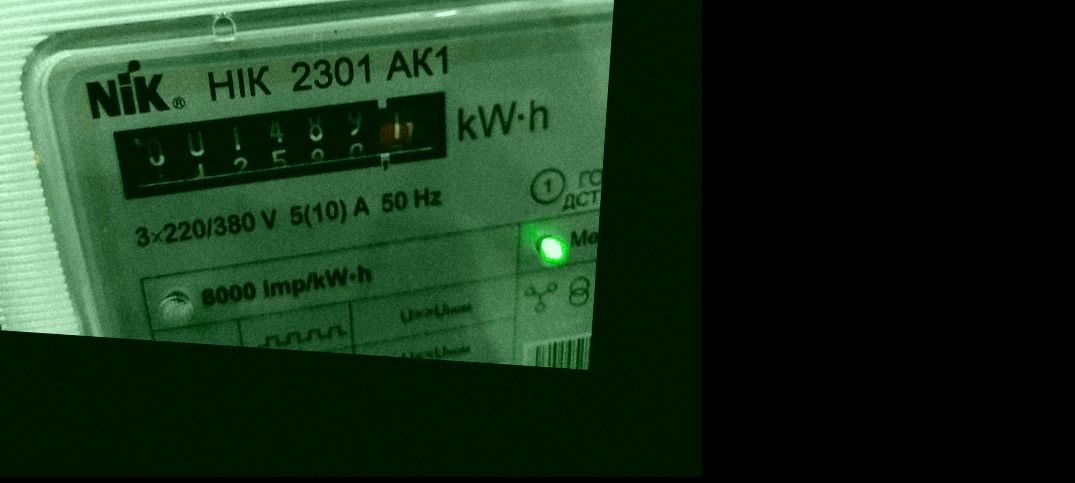0: (180, 121, 208, 159), (141, 133, 168, 169)
1: (385, 103, 406, 142), (225, 120, 247, 152)
4: (263, 113, 287, 145)
8: (303, 107, 327, 145)
9: (343, 104, 365, 137)
screen: (95, 58, 480, 234)
